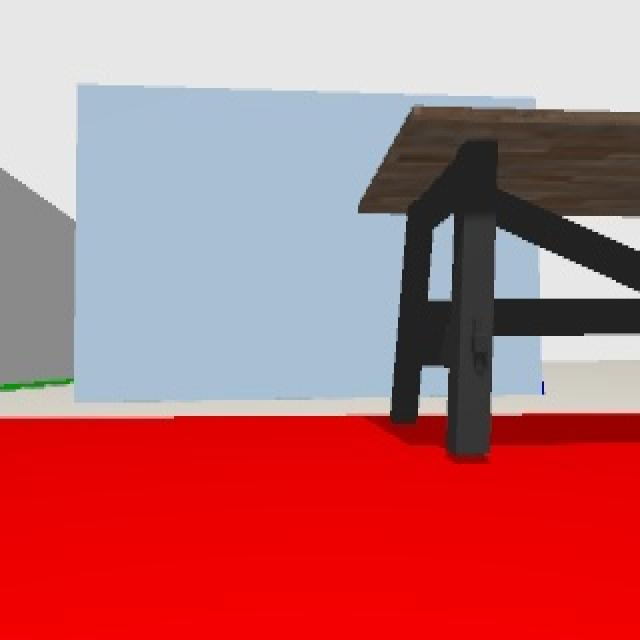dining: (354, 108, 640, 456)
